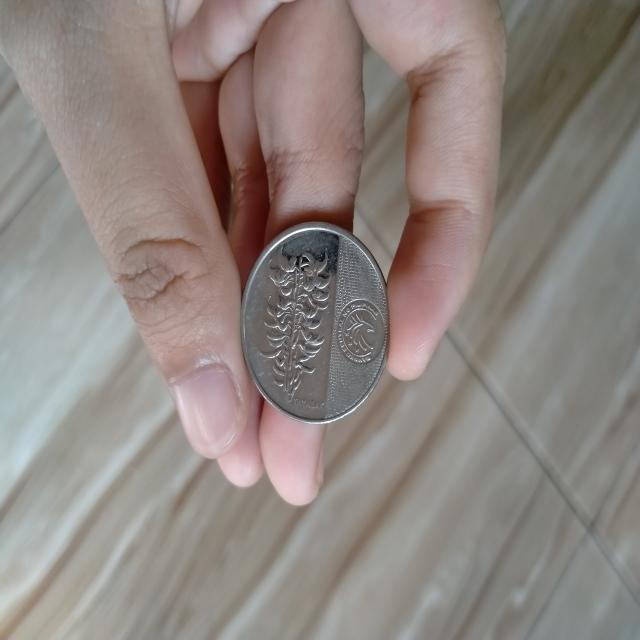5_New_Back: (253, 225, 339, 417)
